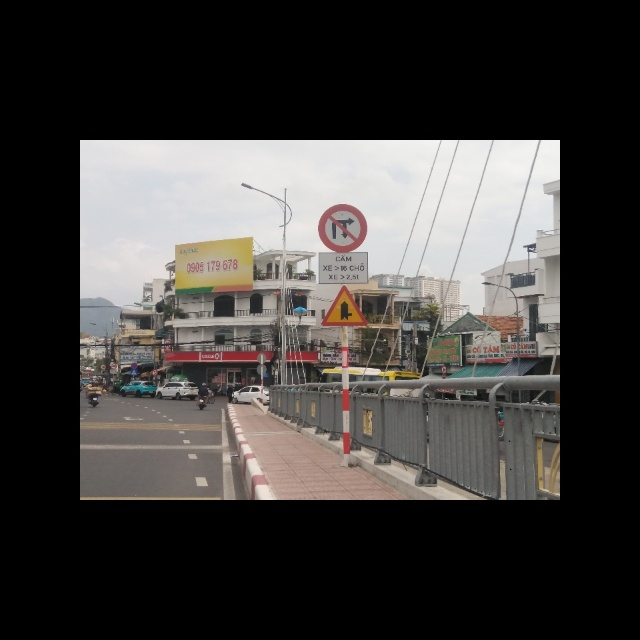Cấm quay đầu và rẽ phải: (317, 204, 368, 251)
Giao nhau với đường không ưu tiên: (320, 287, 367, 327)
